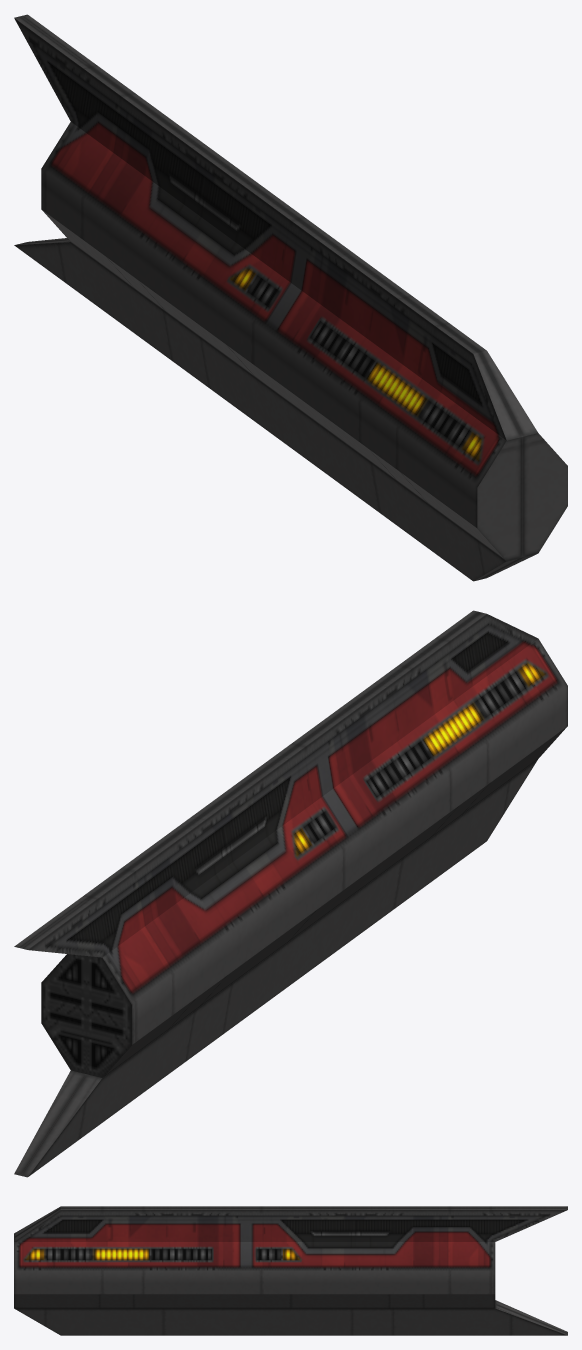
The model's file is BFP_ConnectorSection.FBX.
3 renders of one model, top to bottom at view 1: azimuth 30°, elevation 25°; view 2: azimuth 150°, elevation 25°; view 3: azimuth 270°, elevation 25°, orthographic. The views are drawn at different scales.
Visible parts, largest first — view 1: BFP_ConnectorSection; view 2: BFP_ConnectorSection; view 3: BFP_ConnectorSection.
Part boxes in pixels (box(x1,y1,x2,y2)): BFP_ConnectorSection: box(14, 14, 567, 581); BFP_ConnectorSection: box(14, 610, 567, 1177); BFP_ConnectorSection: box(14, 1206, 567, 1335).
Bounding box in the file's own units: 286 × 684 × 2736.
1 material, 1 textured.
